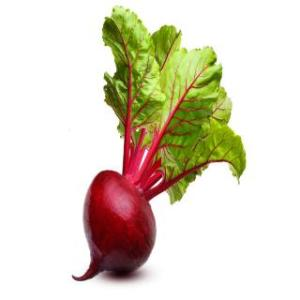beet: (73, 171, 158, 283)
